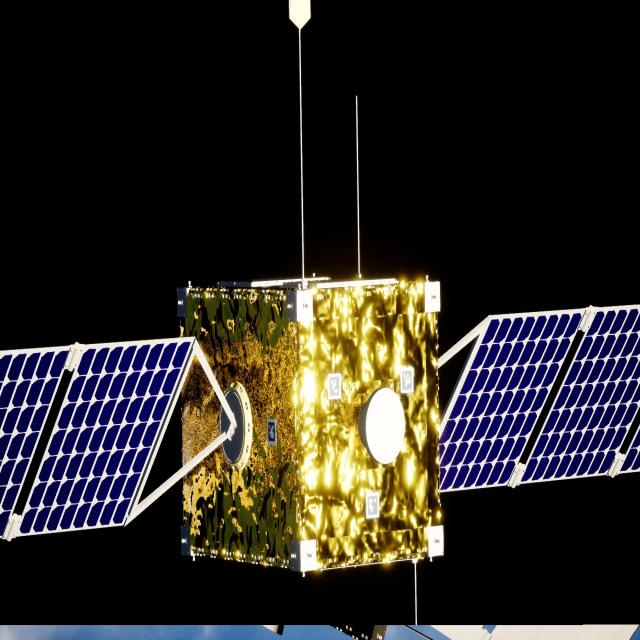medium_debris: (0, 276, 640, 574)
